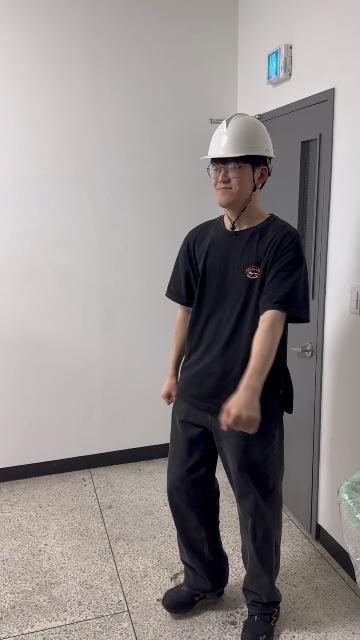helmet_worn: (200, 111, 277, 160)
shoe_worn: (161, 584, 222, 615), (240, 604, 278, 640)
vest_not_worn: (185, 222, 294, 426)
